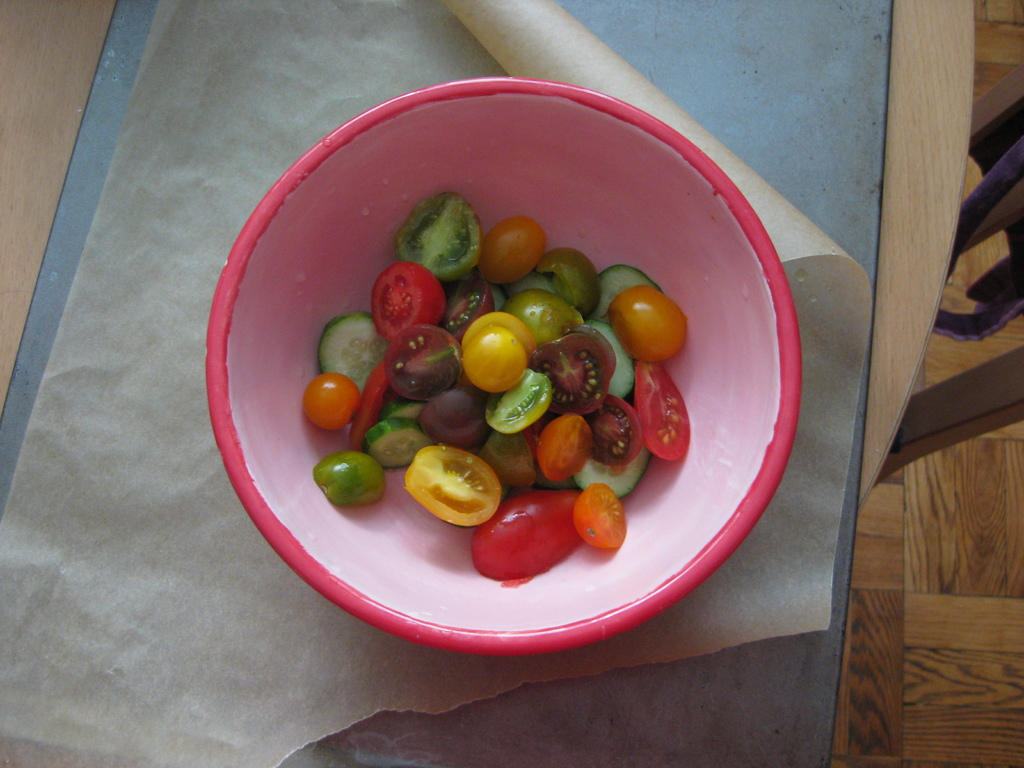Tomato: (296, 193, 692, 555), (471, 497, 567, 587)
